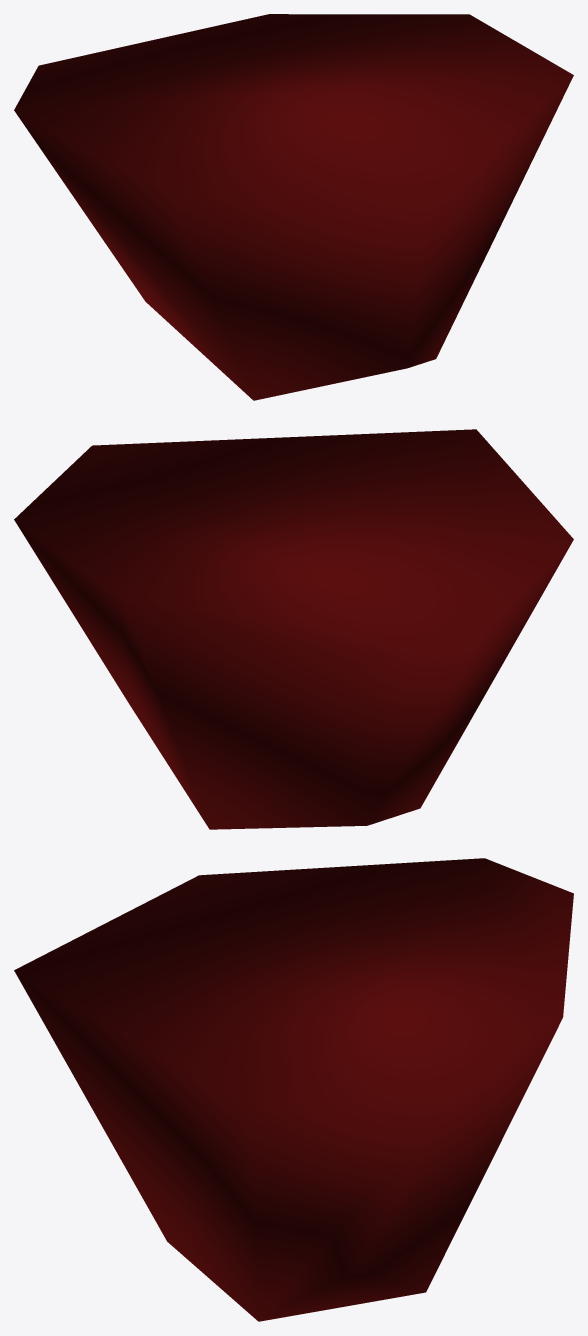
Rendered from Ile_1_Collision.FBX.
3 renders of one model, top to bottom at view 1: azimuth 30°, elevation 25°; view 2: azimuth 150°, elevation 25°; view 3: azimuth 270°, elevation 25°, orthographic. The views are drawn at different scales.
Parts seen in each view (by area): view 1: Ile_1_Collision; view 2: Ile_1_Collision; view 3: Ile_1_Collision.
Boxes of the visible parts, x1,y1,x2,y2 form: Ile_1_Collision: [14, 14, 573, 400]; Ile_1_Collision: [14, 429, 573, 829]; Ile_1_Collision: [14, 858, 573, 1321].
Size of the model in its own units: 3734 by 3522 by 1996.
